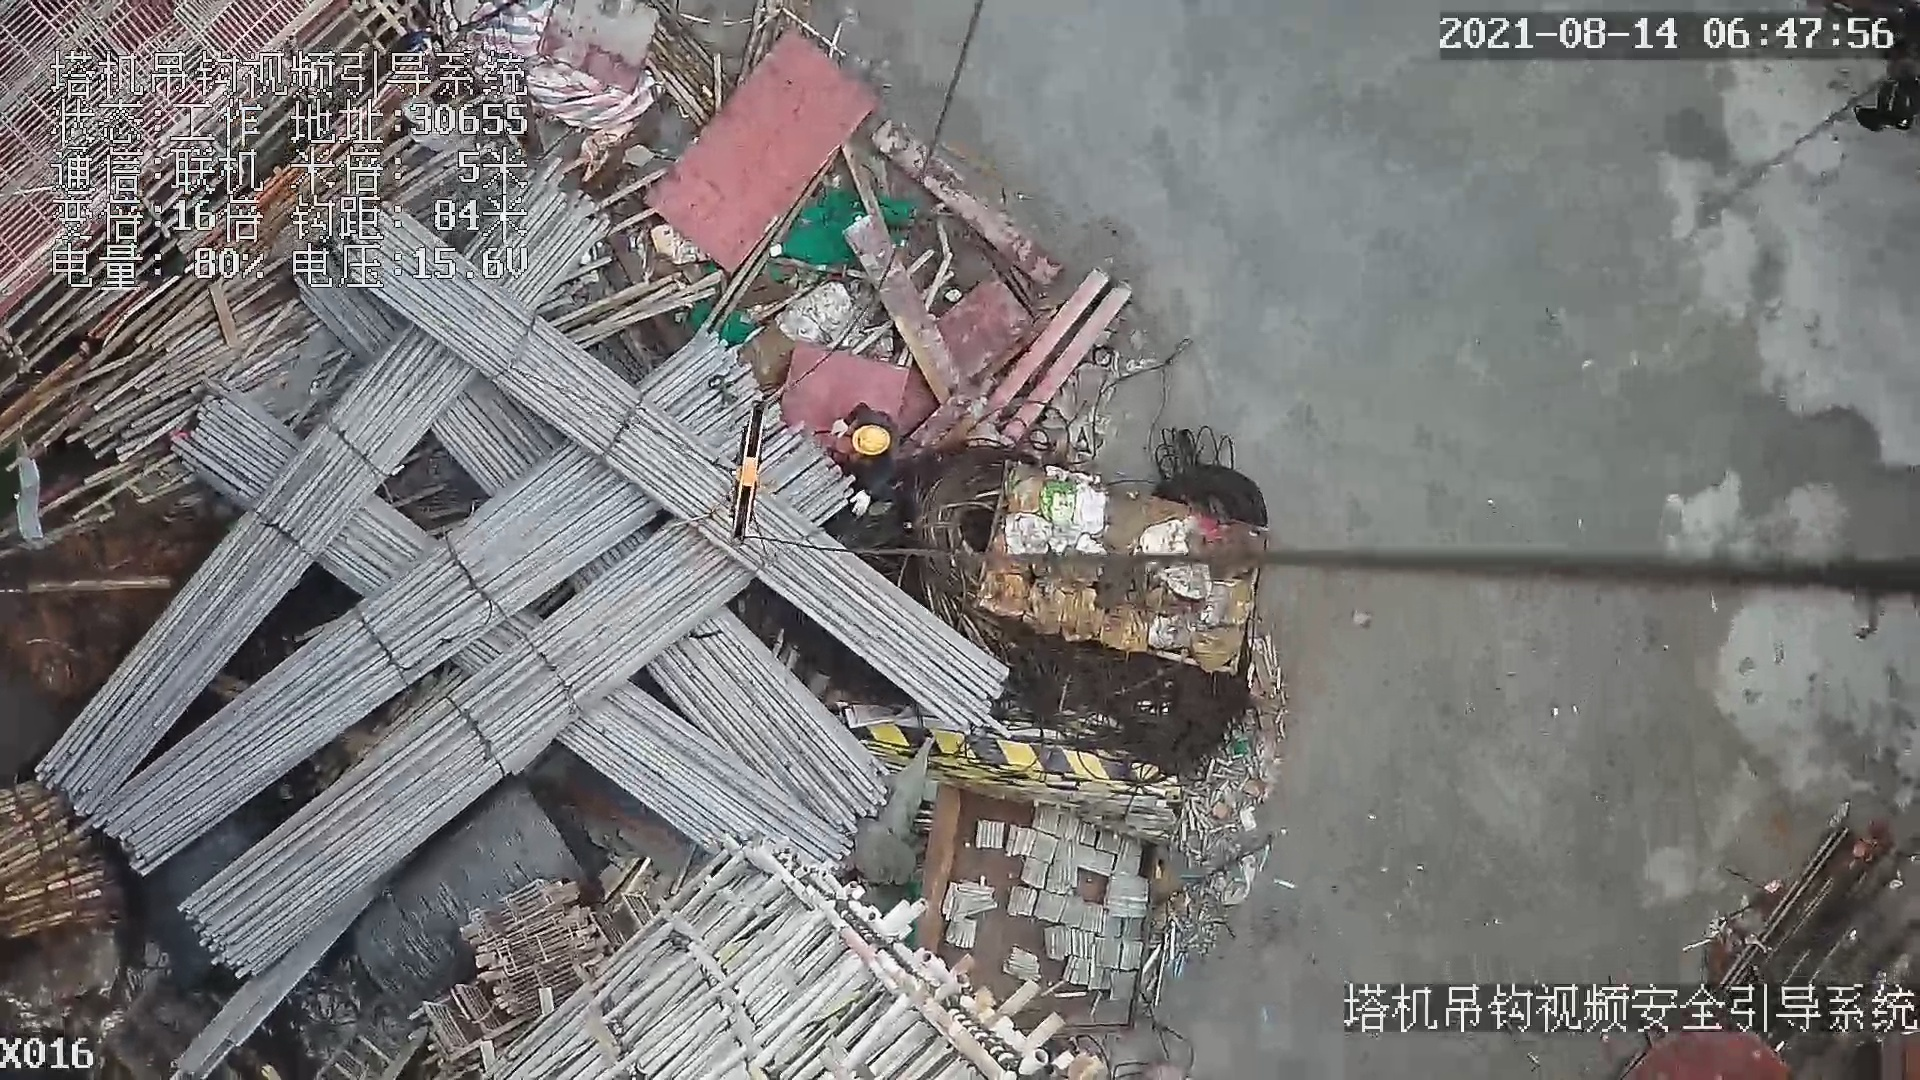board: (651, 30, 892, 268)
helmet: (854, 423, 891, 453)
hook: (720, 399, 788, 551)
person: (826, 404, 899, 517)
scaffold: (1, 783, 167, 928)
